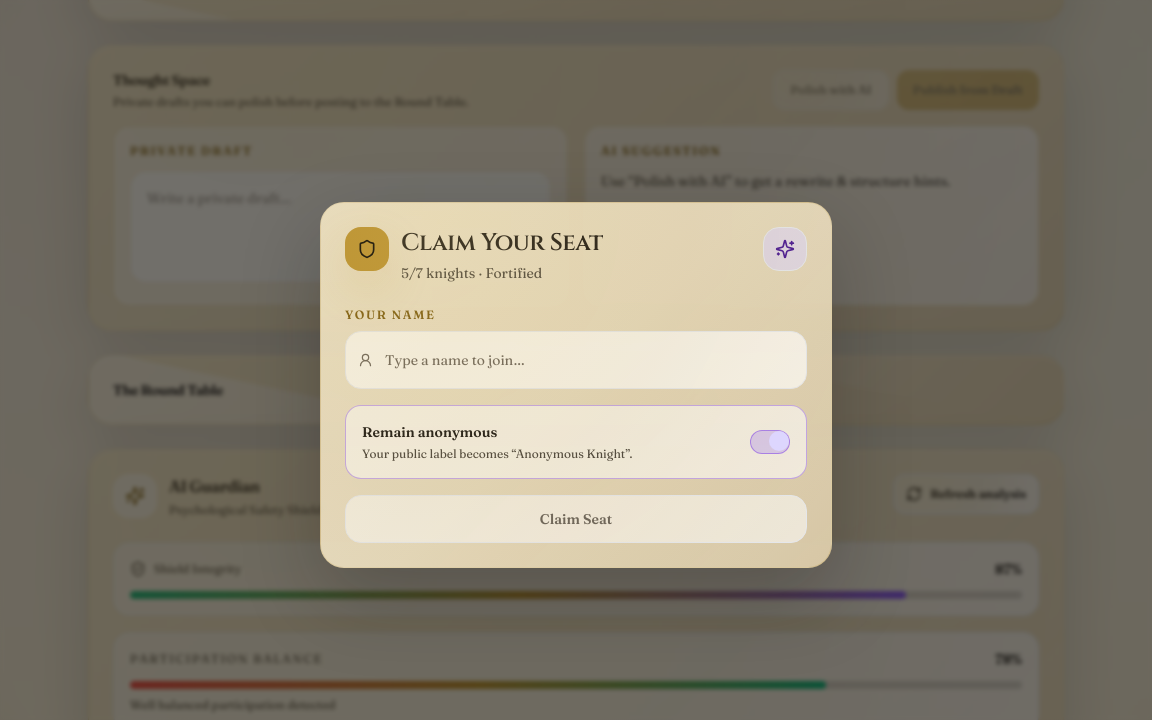
it: room requires claiming a seat before sending messages
(page scrolled)
Expected: the heading "Claim Your Seat" is shown, top-left (401, 227), bottom-right (603, 259)
Type "Alice" into the field labelled "YOUR NAME" at (590, 360), box top-left (385, 340), bottom-right (794, 380)
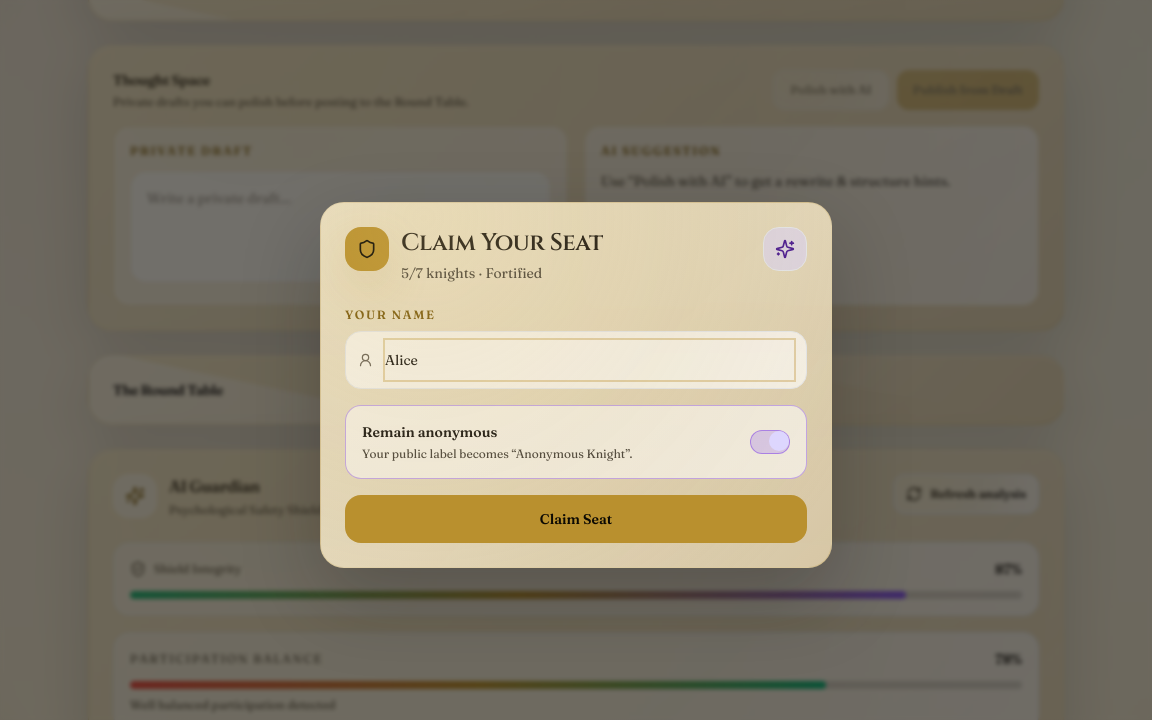
Click the button "Claim Seat" at (576, 519), box top-left (345, 495), bottom-right (807, 543)
(page scrolled)
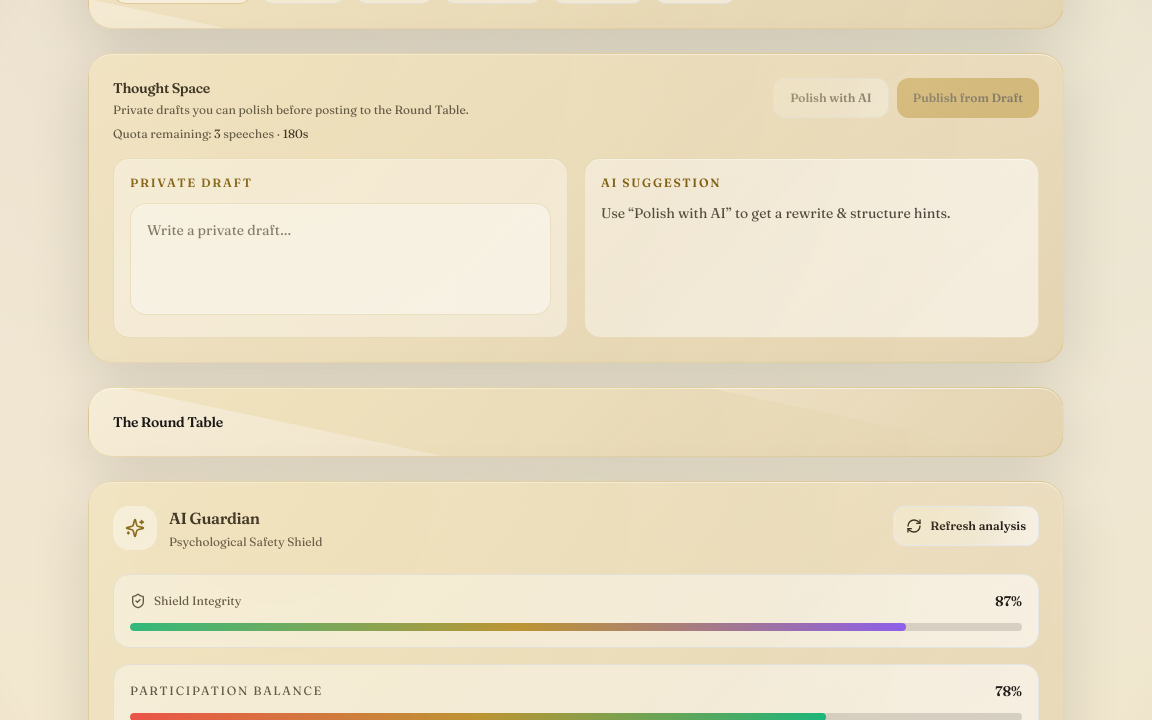
Expected: the button "Publish from Draft" is disabled, top-left (897, 78), bottom-right (1039, 118)
Expected: the heading "Claim Your Seat" is gone
Type "Hello" into the text box labelled "Write a private draft…" at (340, 259), box top-left (130, 203), bottom-right (551, 315)
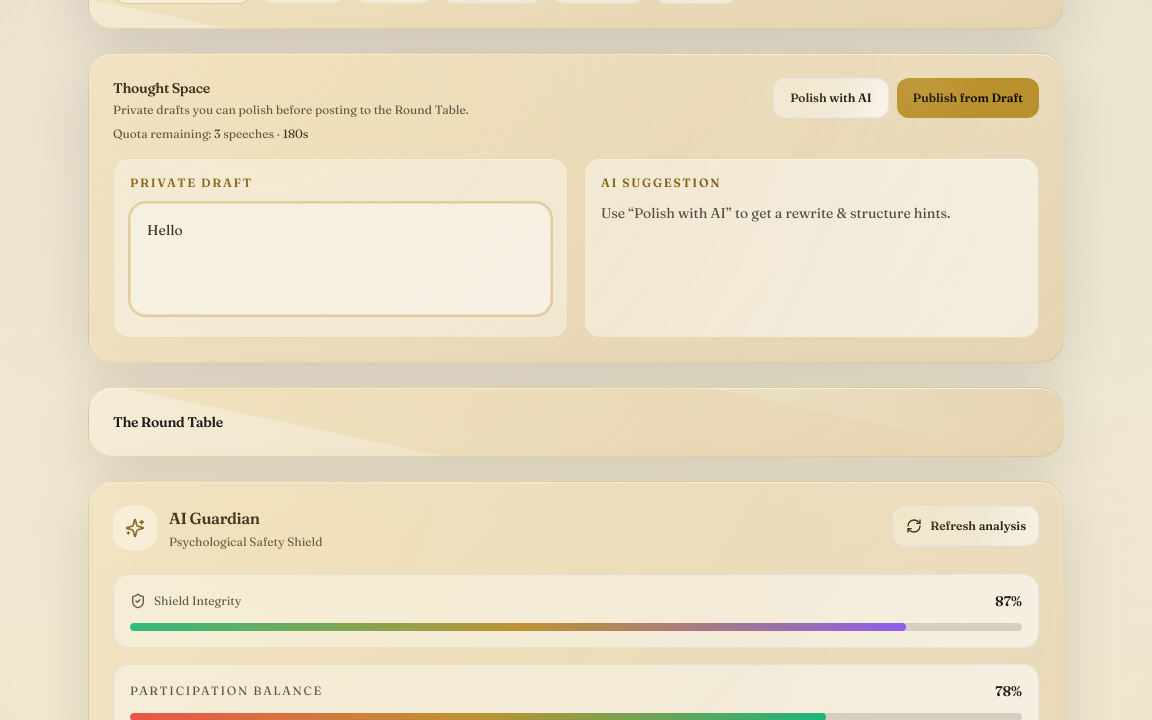
Expected: the button "Publish from Draft" is enabled, top-left (897, 78), bottom-right (1039, 118)
